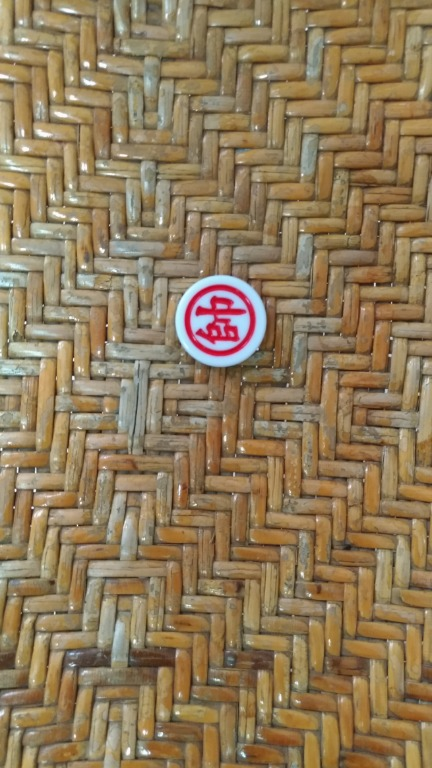r-king: (174, 273, 269, 372)
